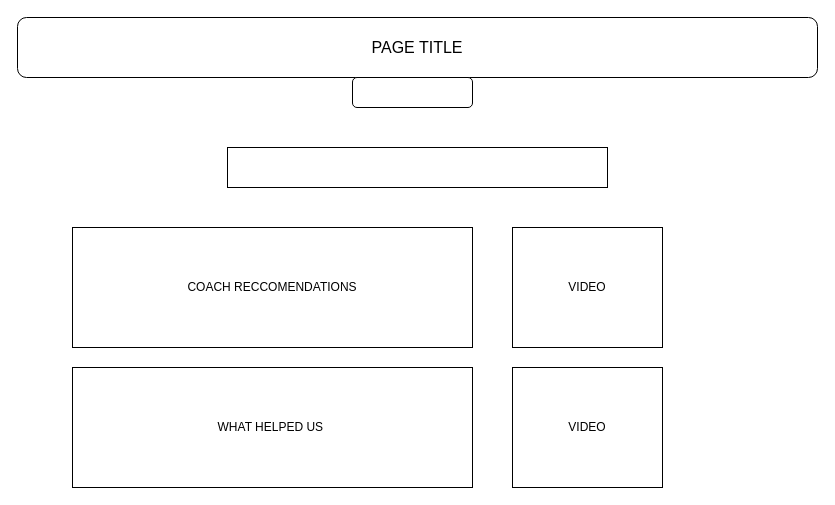
The diagram is 835 pixels wide and 505 high, and some of its shapes have lost their labels. The shapes that lost their labels are listed below. From the top down, each one's box as (x1, y1, x2, y2) in pixels, then its label:
(352, 76, 472, 108): SEARCH INPUT
(226, 146, 608, 188): SUBHEADING WITH EXPLANATION AND EXAMPLE CODE
